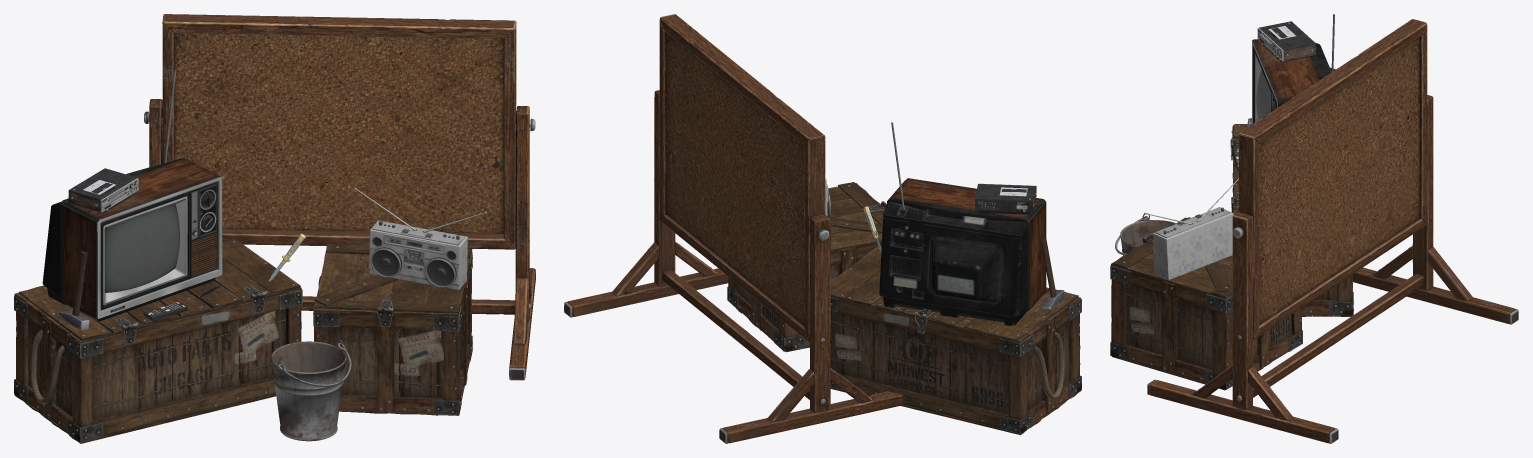
The model's file is room.glb.
The picture shows the model from 3 angles, left to right: view 1: azimuth 30°, elevation 25°; view 2: azimuth 150°, elevation 25°; view 3: azimuth 270°, elevation 25°; orthographic projection. The views are drawn at different scales.
Parts seen in each view (by area): view 1: EvidenceBoard, Crate_TV, Crate_Radio, TV_Body, Bucket, Radio, TV_Screen, VCR, Hammer; view 2: EvidenceBoard, Crate_TV, TV_Body, Crate_Radio, VCR, Hammer; view 3: EvidenceBoard, Crate_Radio, Radio, TV_Body, Crate_TV, VCR, Bucket, TV_Screen.
Part boxes in pixels (x1,y1,x2,y2): EvidenceBoard: [144, 14, 535, 380]; Crate_TV: [14, 239, 302, 443]; Crate_Radio: [313, 243, 472, 415]; TV_Body: [42, 70, 222, 321]; Bucket: [271, 340, 351, 441]; Radio: [354, 187, 486, 290]; TV_Screen: [104, 203, 179, 292]; VCR: [68, 168, 138, 213]; Hammer: [57, 251, 89, 330]; EvidenceBoard: [564, 14, 902, 443]; Crate_TV: [830, 246, 1081, 435]; TV_Body: [879, 122, 1046, 326]; Crate_Radio: [727, 182, 886, 352]; VCR: [974, 183, 1036, 214]; Hammer: [1041, 238, 1065, 309]; EvidenceBoard: [1147, 19, 1518, 443]; Crate_Radio: [1110, 217, 1302, 390]; Radio: [1144, 178, 1238, 280]; TV_Body: [1252, 14, 1335, 124]; Crate_TV: [1230, 124, 1353, 316]; VCR: [1257, 21, 1315, 62]; Bucket: [1115, 213, 1176, 255]; TV_Screen: [1256, 69, 1270, 120].
Size of the model in its own units: 2.69 by 1.52 by 2.01.
4 materials, 4 textured.
